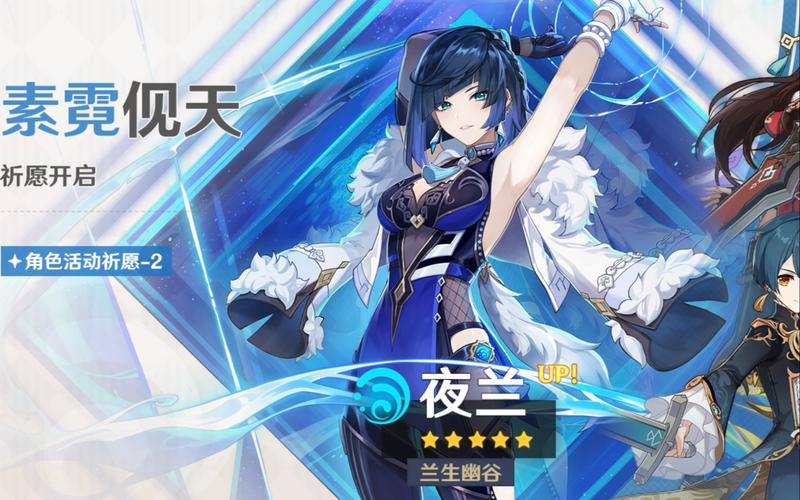夜兰: (338, 1, 671, 500)
